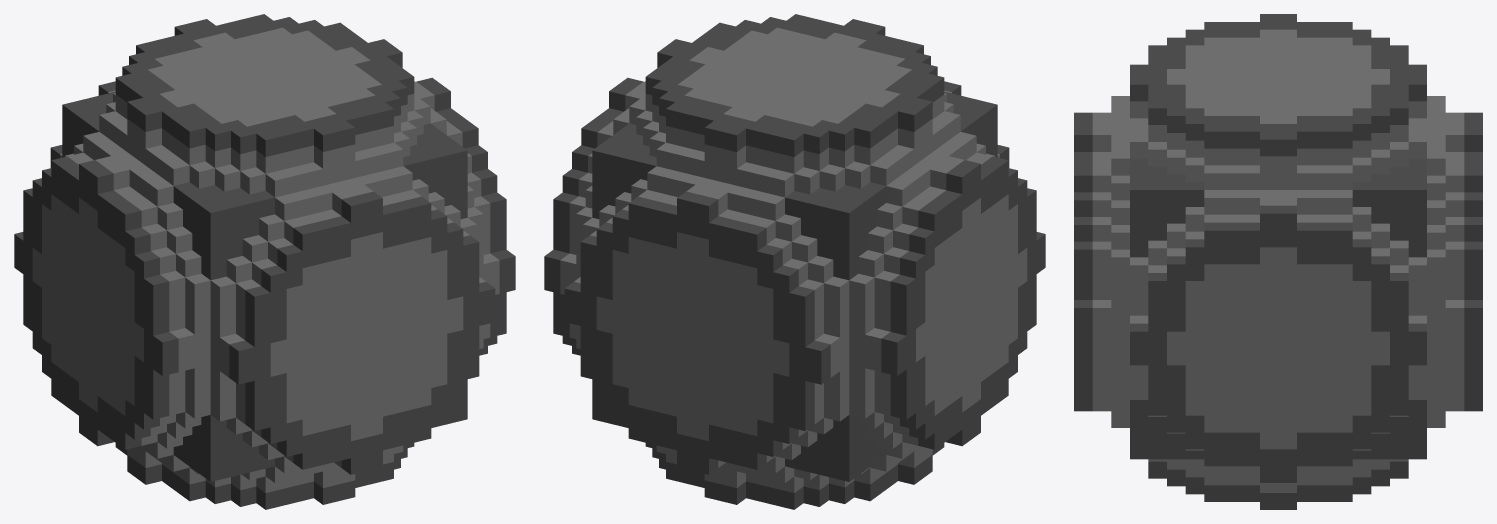
The model's file is _asteroidhole.obj.
3 views of the same model, side by side, from view 1: azimuth 30°, elevation 25°; view 2: azimuth 150°, elevation 25°; view 3: azimuth 270°, elevation 25° (orthographic).
Size of the model in its own units: 2.2 by 2.2 by 2.2.
